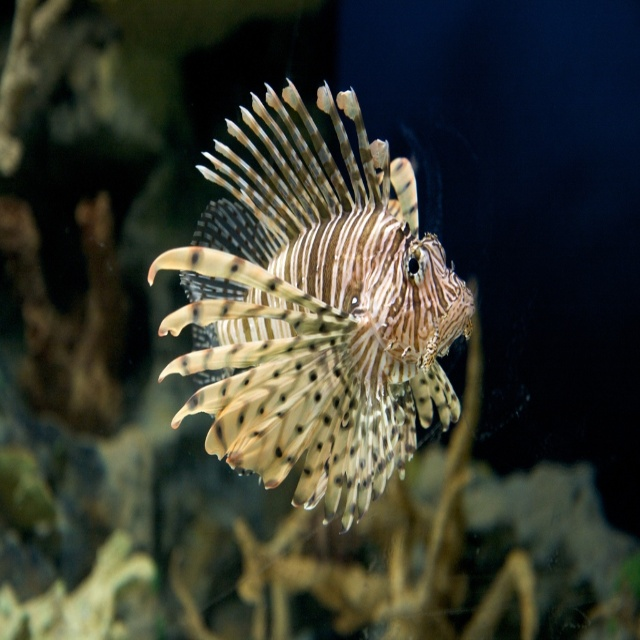Fish: (146, 77, 475, 535)
